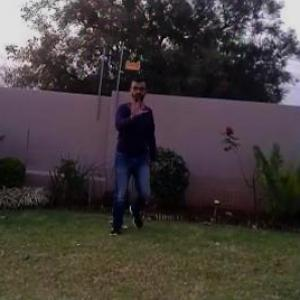follow_hand: (124, 93, 148, 119)
